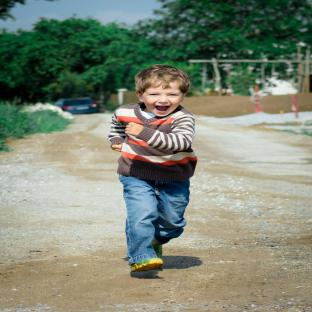Human: (107, 64, 197, 272)
